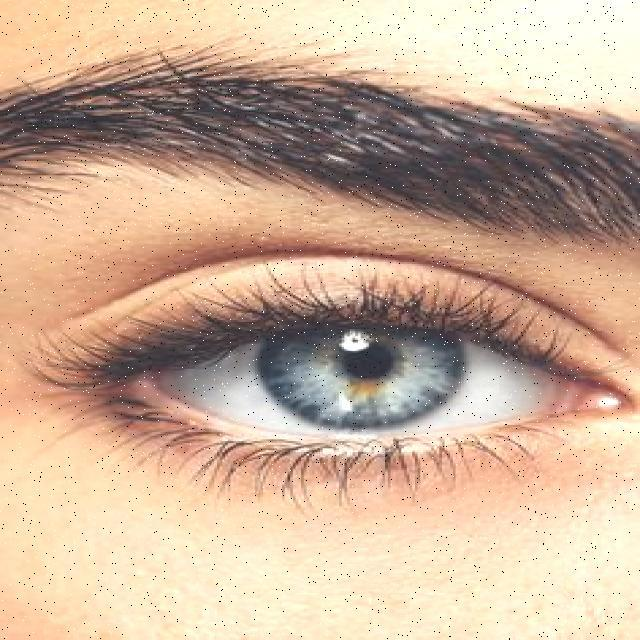Normal: (6, 199, 637, 590)
